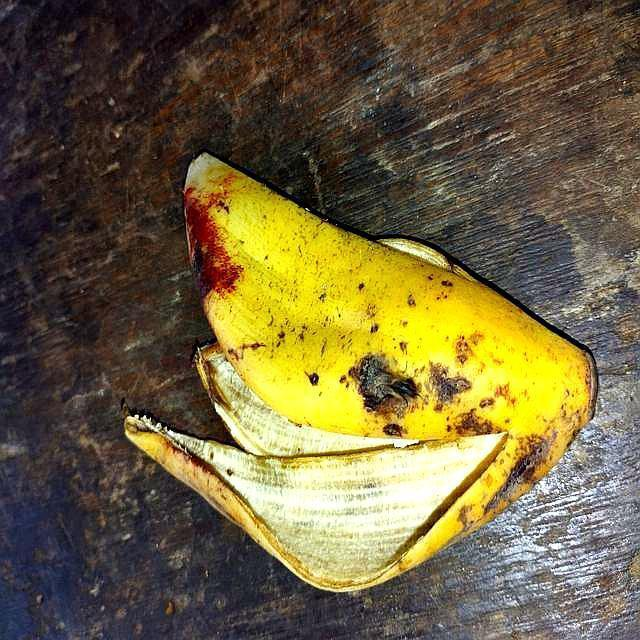Biodegradable: (111, 159, 595, 597)
